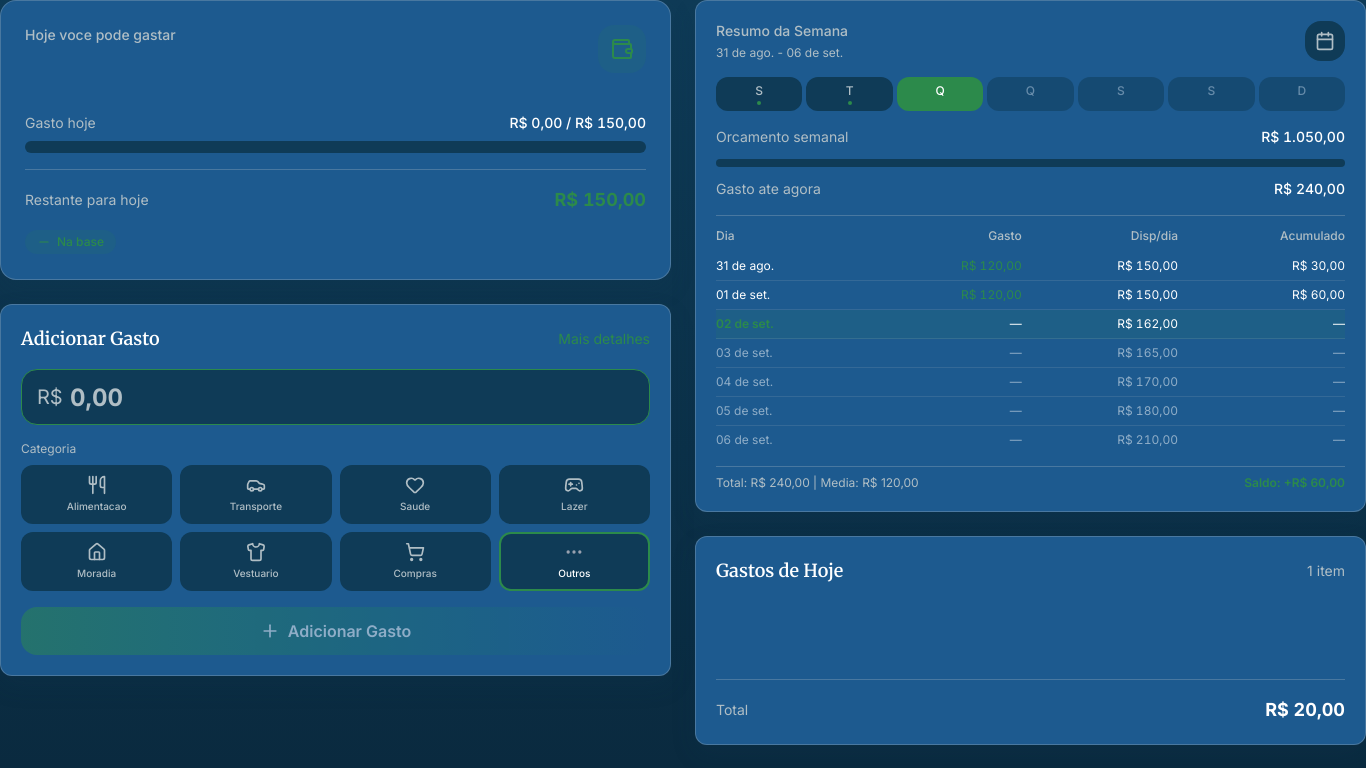
Test: looking at another day › should come back to today when today is clicked
Click the 1st button "S": point(759, 94) [716,77,802,111]
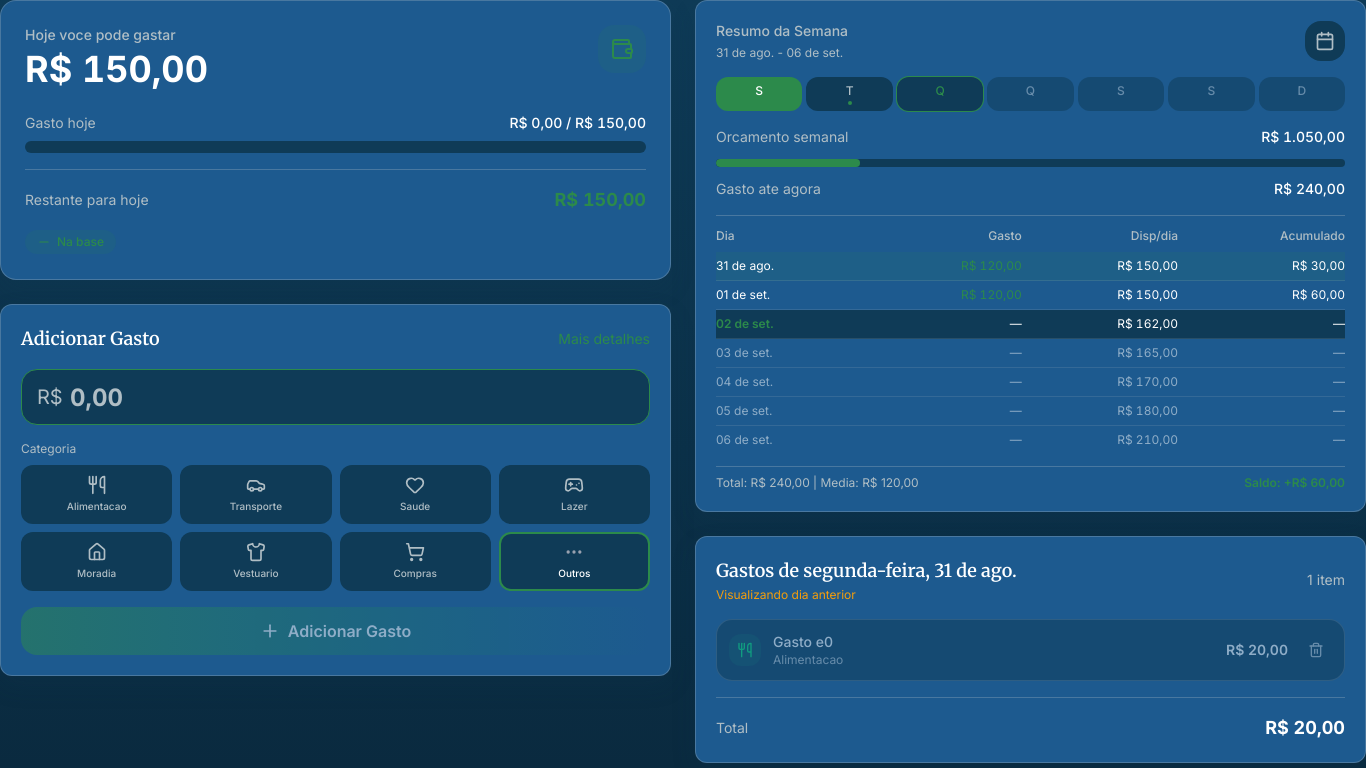
Click the 1st button "Q": point(940, 94) [897,77,983,111]
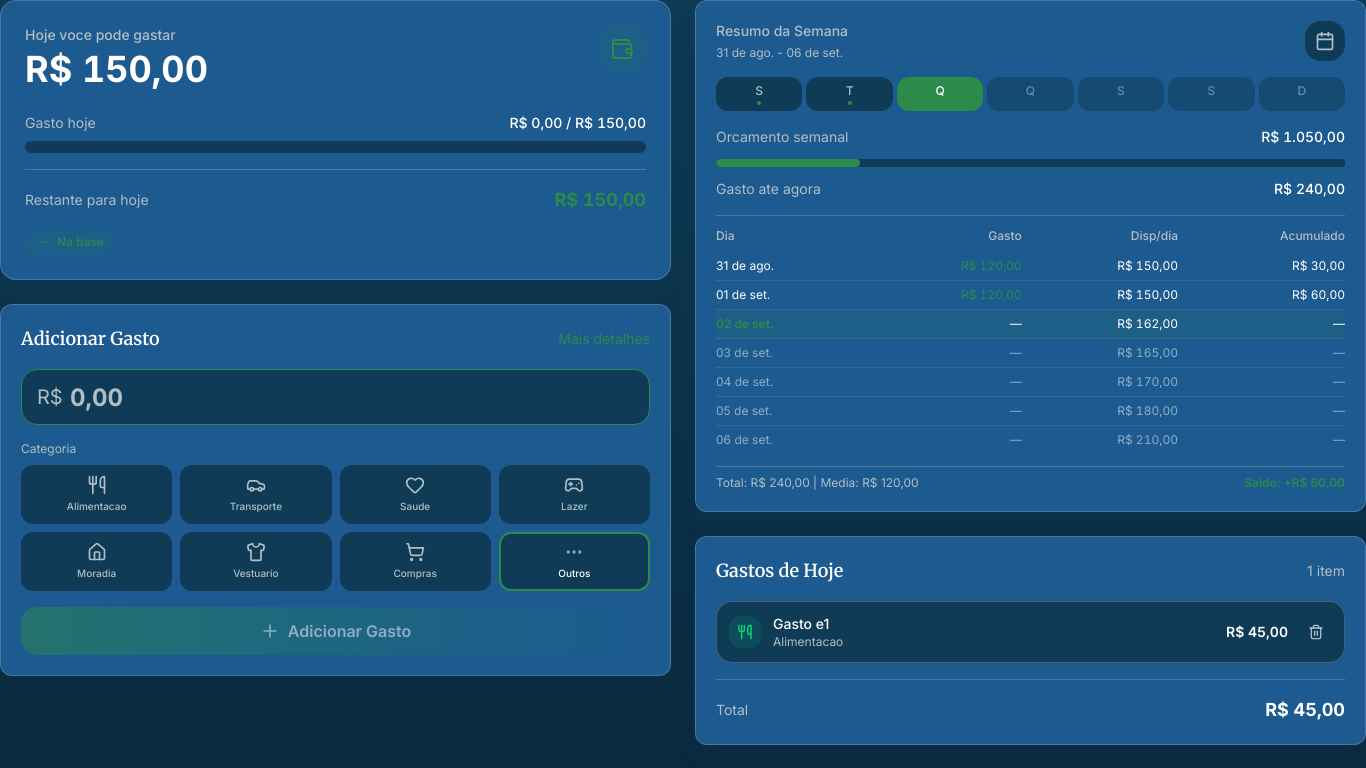
Result: the heading "Gastos de Hoje" is shown at [716,557,843,585]
